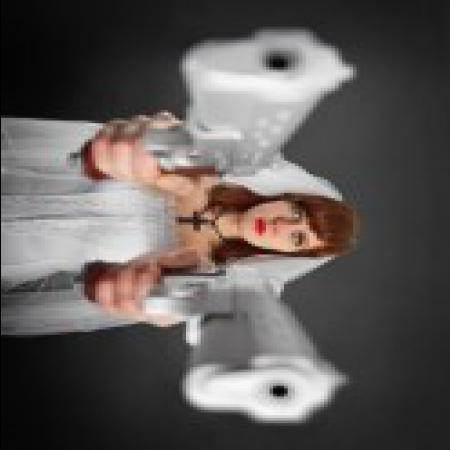Pistol: (88, 252, 356, 426), (80, 22, 363, 182)
